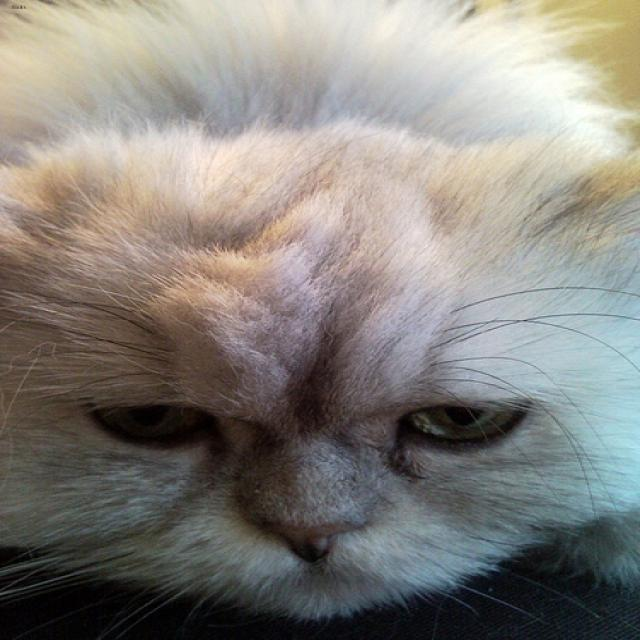Persian: (0, 117, 638, 613)
